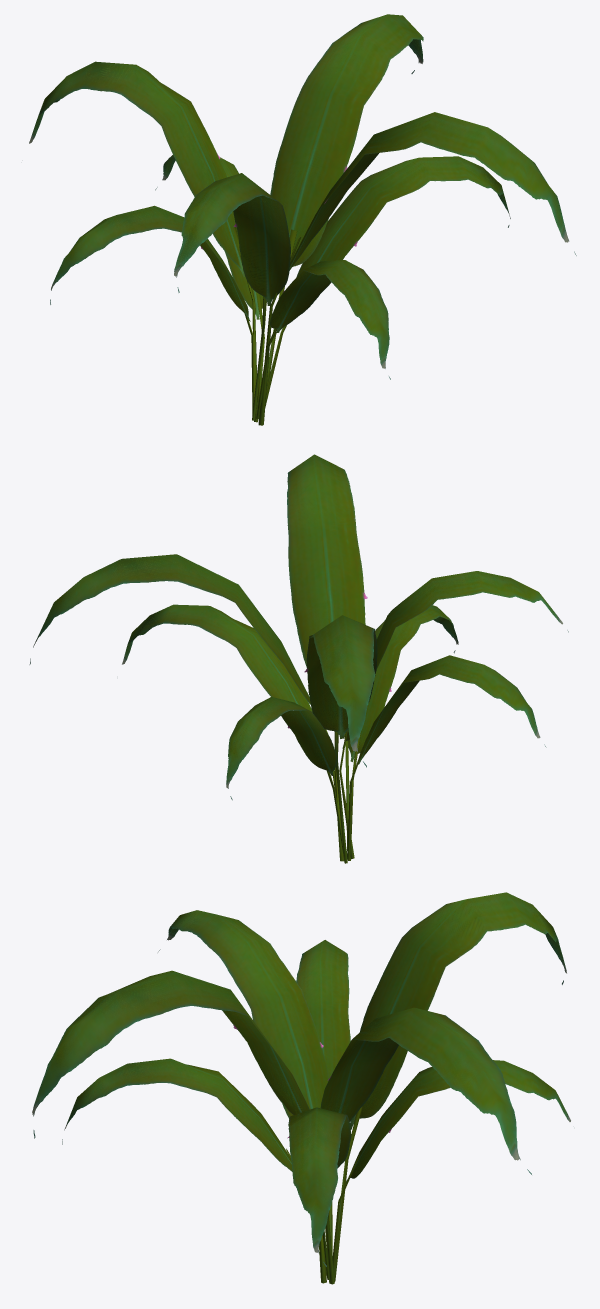
File: Fern-06.fbx
3 views of the same model, one above another, from view 1: azimuth 30°, elevation 25°; view 2: azimuth 150°, elevation 25°; view 3: azimuth 270°, elevation 25° (orthographic). The views are drawn at different scales.
Visible parts, largest first — view 1: Fern-06; view 2: Fern-06; view 3: Fern-06.
Boxes of the visible parts, bbox=[...] form: Fern-06: bbox=[29, 14, 576, 425]; Fern-06: bbox=[29, 454, 568, 863]; Fern-06: bbox=[32, 892, 570, 1284].
Size of the model in its own units: 2 by 1.34 by 1.89.
